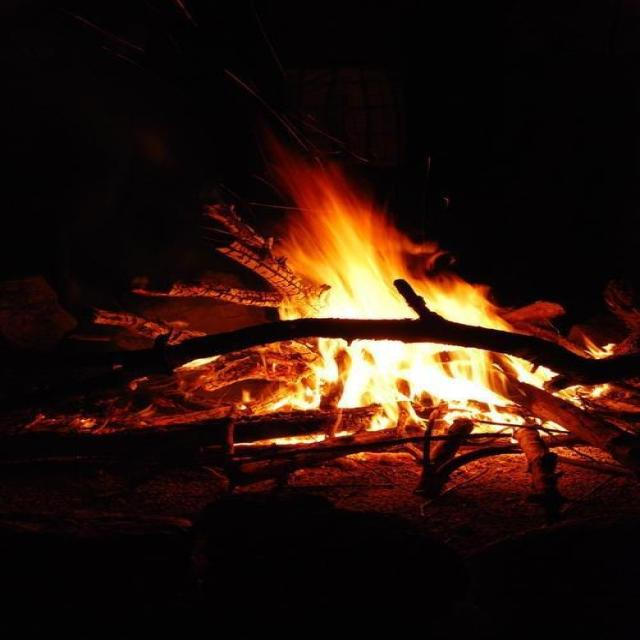fire: (87, 123, 618, 512)
